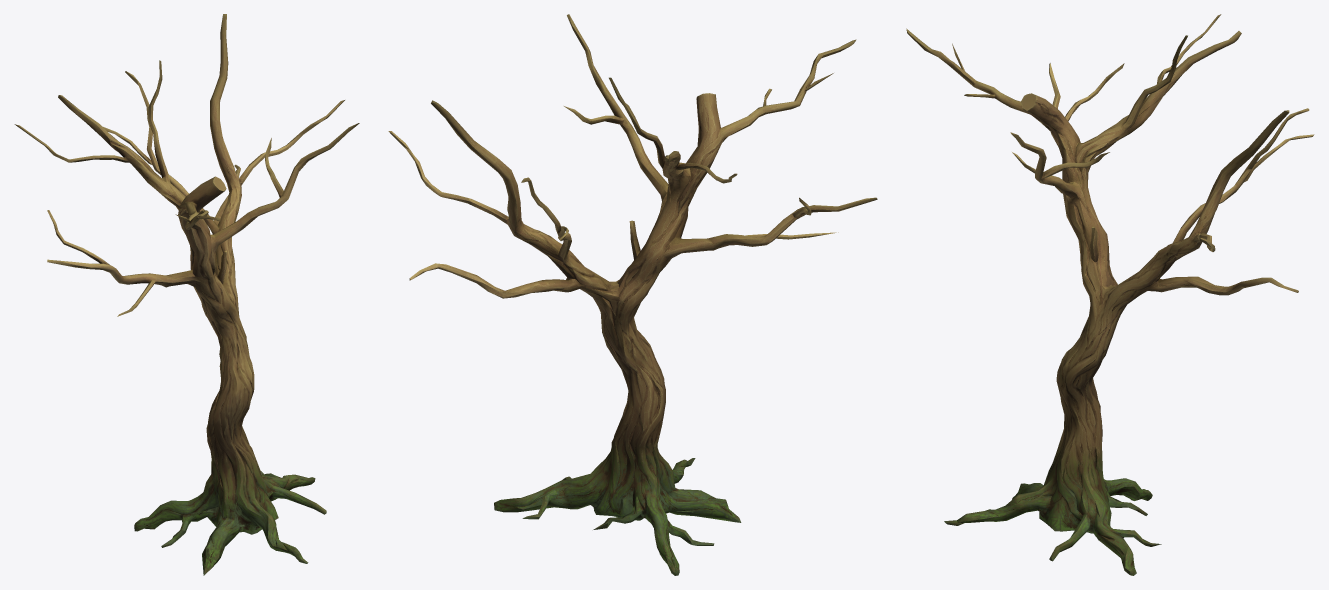
File: TraditionalKoreanHouse_TreeC02.fbx
The picture shows the model from 3 angles, left to right: view 1: azimuth 30°, elevation 25°; view 2: azimuth 150°, elevation 25°; view 3: azimuth 270°, elevation 25°; orthographic projection. The views are drawn at different scales.
Parts seen in each view (by area): view 1: TraditionalKoreanHouse_TreeC02; view 2: TraditionalKoreanHouse_TreeC02; view 3: TraditionalKoreanHouse_TreeC02.
Boxes of the visible parts, left/top/right/bottom form: TraditionalKoreanHouse_TreeC02: left=14, top=14, right=359, bottom=575; TraditionalKoreanHouse_TreeC02: left=388, top=14, right=877, bottom=575; TraditionalKoreanHouse_TreeC02: left=906, top=14, right=1314, bottom=575.
Size of the model in its own units: 552 by 643 by 489.
